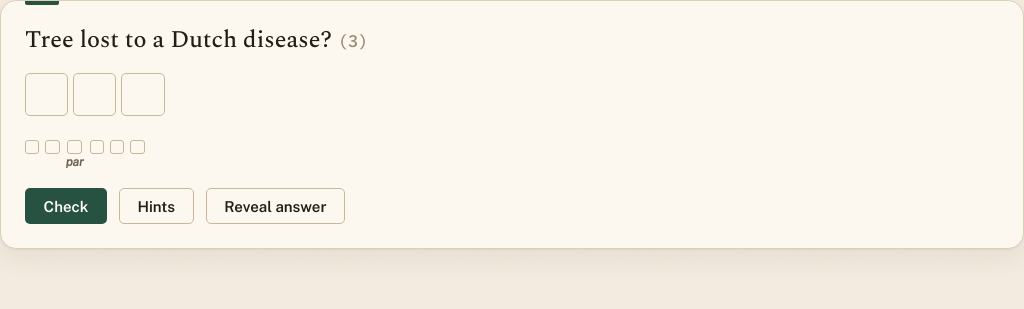
Scenario: DailyClueCard › wrong guesses are free
Step 1. Type "Z" into the field named "Letter 1" → (47, 94), box 25,73 -> 68,116
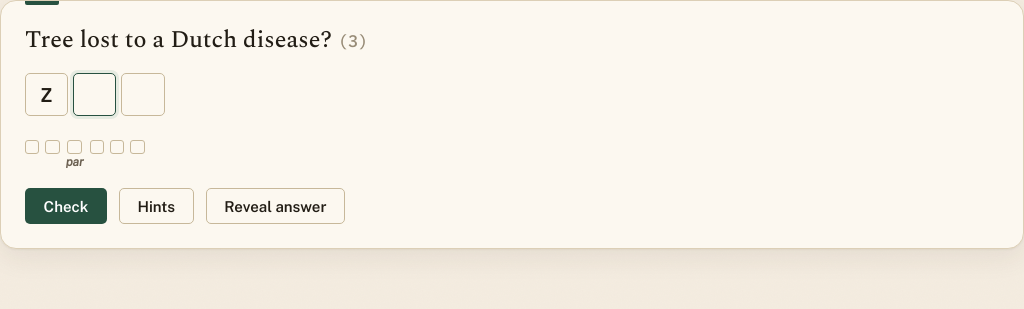
Step 2. Type "Z" into the field named "Letter 2" → (95, 94), box 73,73 -> 116,116
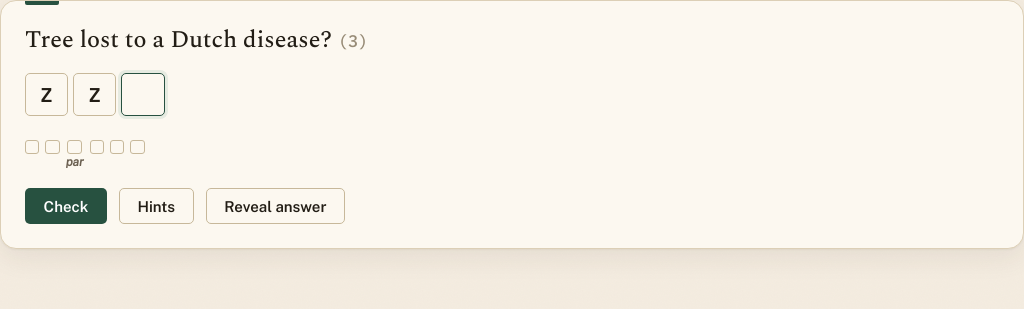
Step 3. Type "Z" into the field named "Letter 3" → (143, 94), box 121,73 -> 165,116
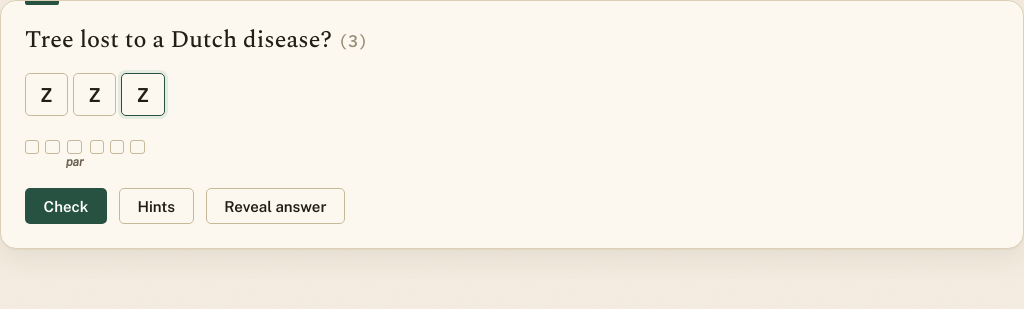
Step 4. Click the button "Check" → (66, 206), box 25,188 -> 107,224
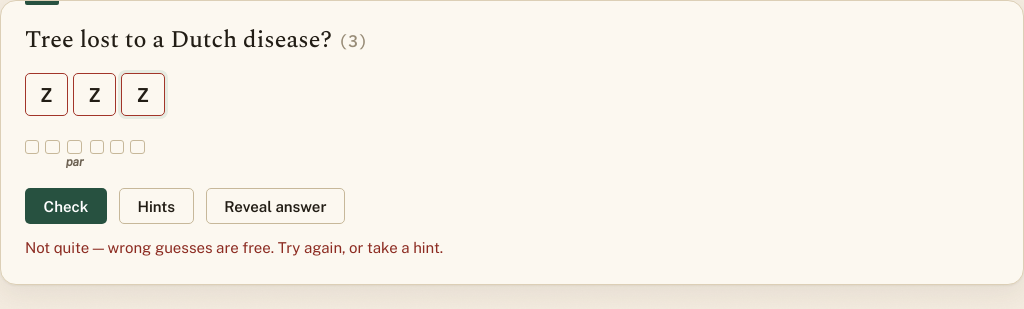
Now the message shows "Not quite", box 25,240 -> 443,256
